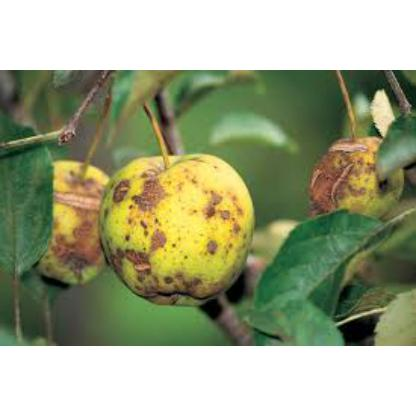damaged_apple: (102, 154, 250, 300), (27, 160, 113, 288), (307, 130, 405, 224)
